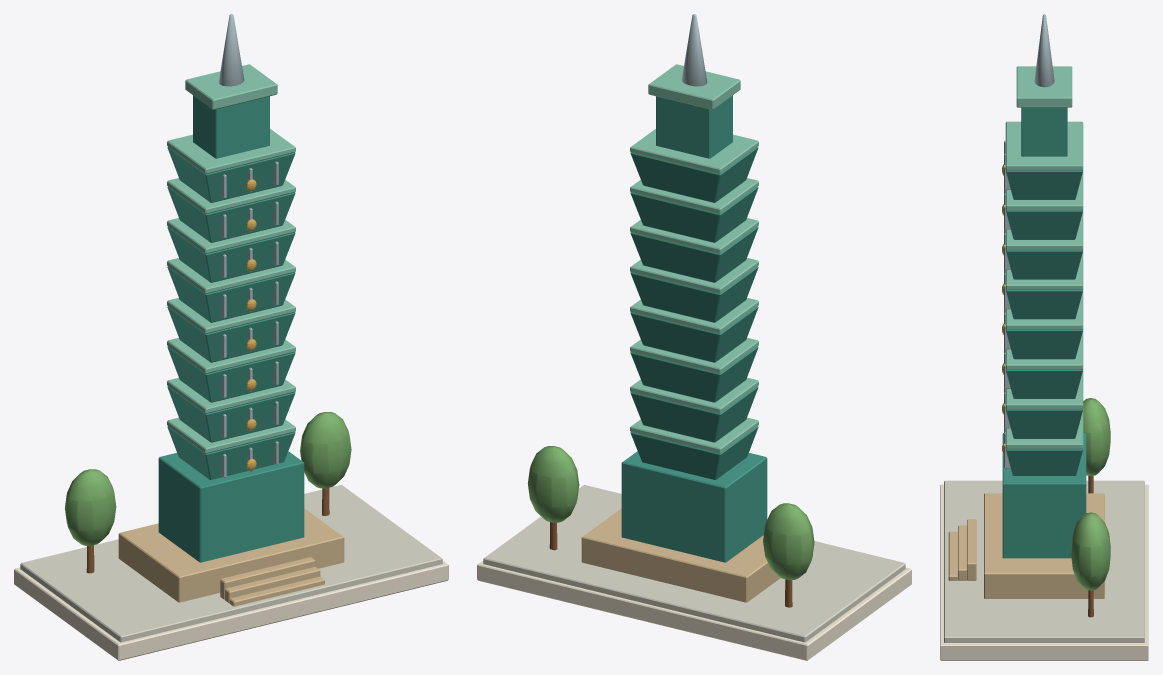
Rendered from taipei-101.glb.
3 renders of one model, left to right at view 1: azimuth 30°, elevation 25°; view 2: azimuth 150°, elevation 25°; view 3: azimuth 270°, elevation 25°, orthographic.
Parts seen in each view (by area): view 1: Taipei 101; view 2: Taipei 101; view 3: Taipei 101.
Boxes of the visible parts, box(x1,y1,x2,y2) form: Taipei 101: box(14, 14, 448, 660); Taipei 101: box(477, 14, 911, 660); Taipei 101: box(940, 14, 1148, 660).
Size of the model in its own units: 1.47 by 2.42 by 0.8064.
